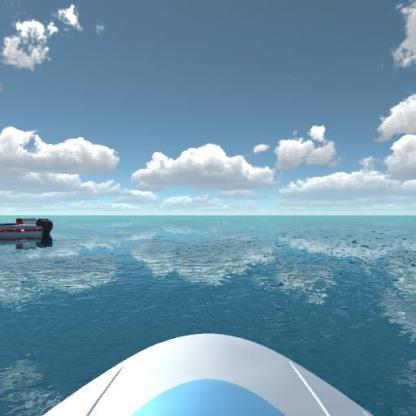usv3: (0, 212, 56, 251)
